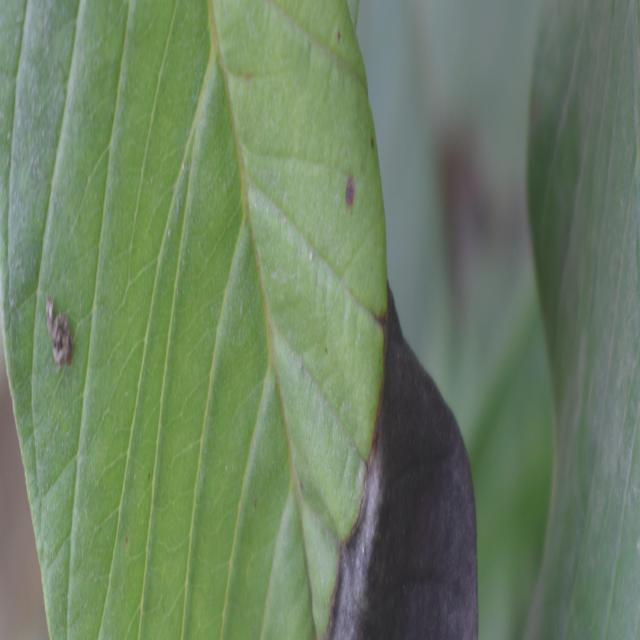Mummification: (0, 2, 478, 639)
